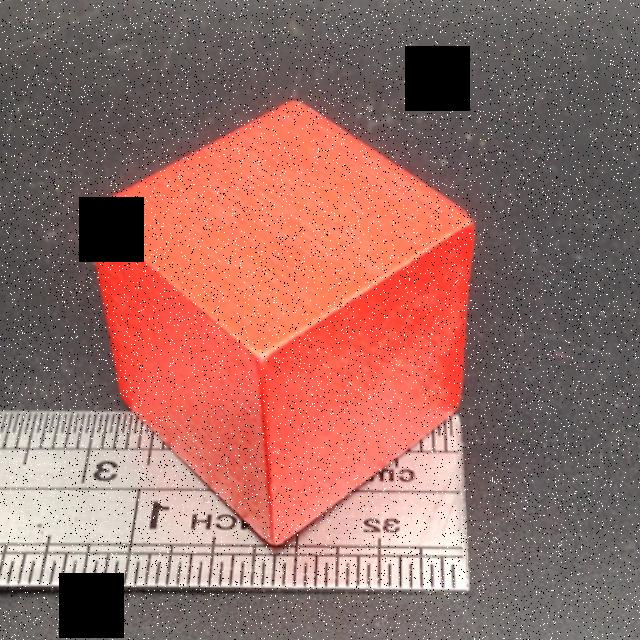red cube: (87, 95, 477, 549)
